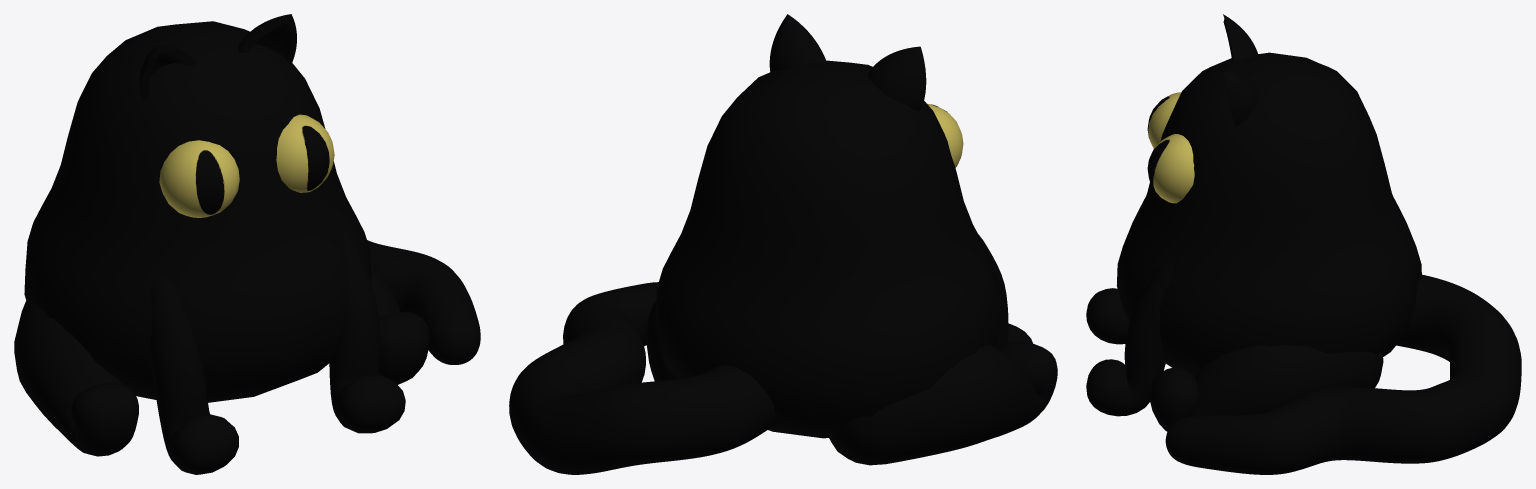
The picture shows the model from 3 angles, left to right: view 1: azimuth 30°, elevation 25°; view 2: azimuth 150°, elevation 25°; view 3: azimuth 270°, elevation 25°; orthographic projection. The views are drawn at different scales.
Parts seen in each view (by area): view 1: Bob, Plane.001, Plane.002, Sphere, Plane.003, BezierCurve; view 2: Bob, Plane.003, Plane.002, BezierCurve, Plane.001, Sphere; view 3: Bob, Plane.003, Plane.002, Plane.001, Sphere, BezierCurve.
Boxes of the visible parts, bbox=[...] form: Bob: bbox=[24, 21, 371, 402]; Plane.001: bbox=[150, 231, 405, 474]; Plane.002: bbox=[14, 260, 429, 456]; Sphere: bbox=[159, 114, 334, 217]; Plane.003: bbox=[367, 240, 480, 364]; BezierCurve: bbox=[139, 14, 296, 100]; Bob: bbox=[656, 60, 999, 438]; Plane.003: bbox=[509, 282, 777, 474]; Plane.002: bbox=[646, 301, 1057, 465]; BezierCurve: bbox=[769, 14, 926, 110]; Plane.001: bbox=[978, 234, 1032, 348]; Sphere: bbox=[927, 103, 963, 167]; Bob: bbox=[1116, 52, 1421, 376]; Plane.003: bbox=[1165, 274, 1521, 474]; Plane.002: bbox=[1150, 345, 1383, 431]; Plane.001: bbox=[1086, 260, 1173, 416]; Sphere: bbox=[1147, 92, 1194, 203]; BezierCurve: bbox=[1223, 14, 1258, 126].
Bounding box in the file's own units: 1.55 × 1.28 × 1.51.
2 materials, 1 textured.
